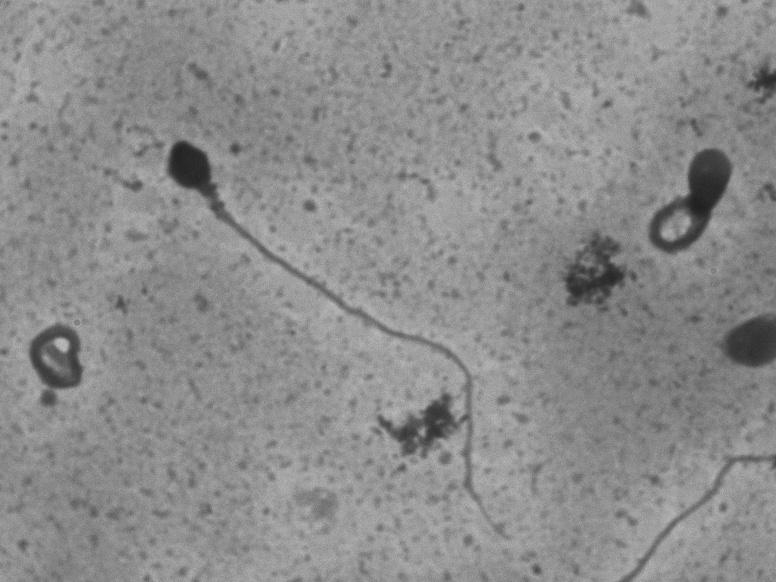Abnormal: (150, 128, 493, 492), (635, 120, 756, 297)
